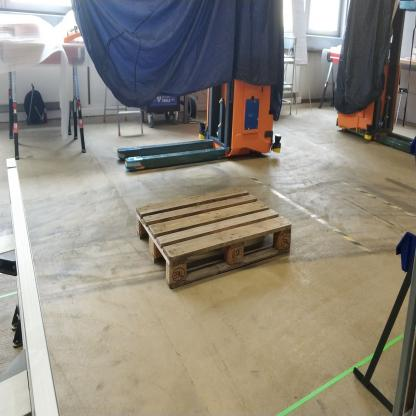BoxFace: (134, 179, 293, 301)
